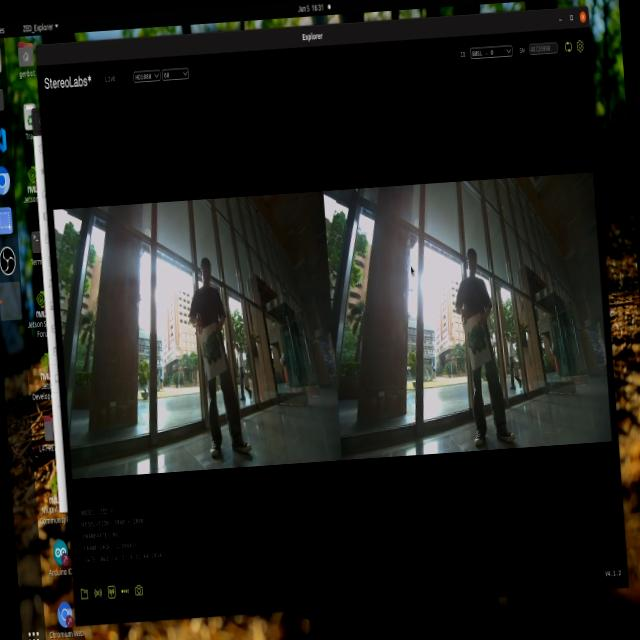green: (191, 319, 225, 372), (466, 317, 494, 356)
